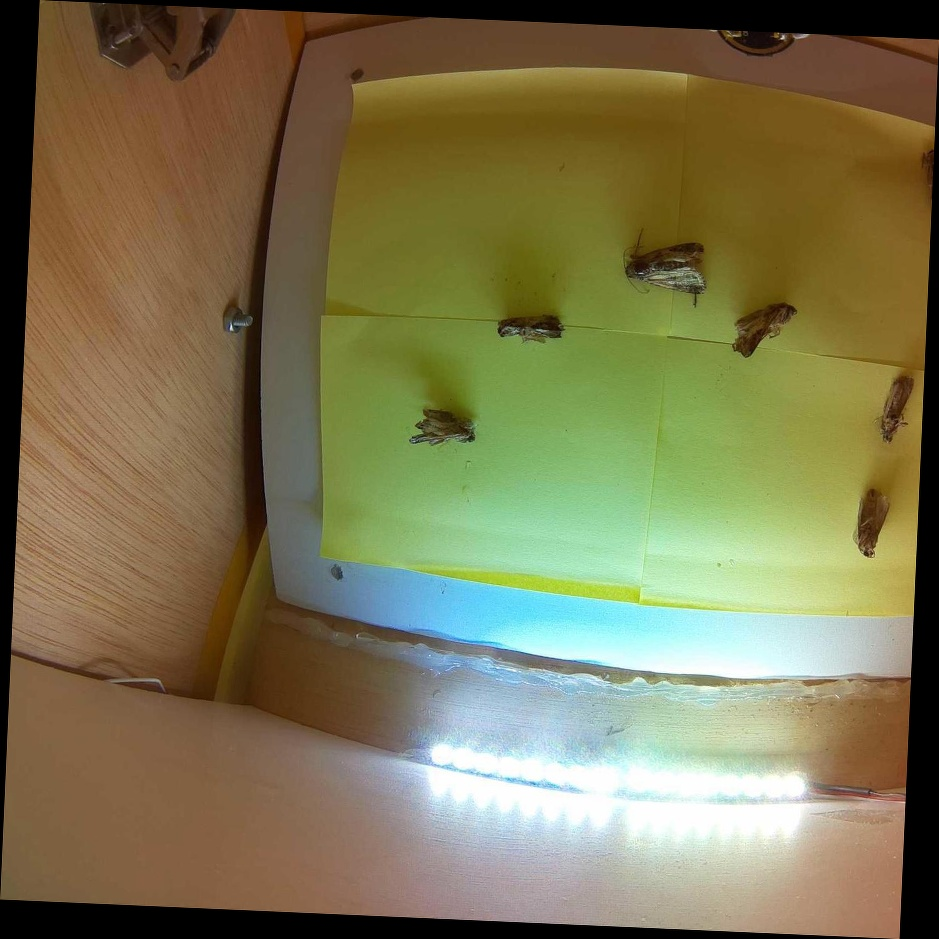Spodoptera litura: (621, 228, 707, 308), (732, 302, 799, 360), (879, 372, 914, 445), (408, 409, 477, 446), (856, 490, 889, 557), (497, 316, 565, 342)
